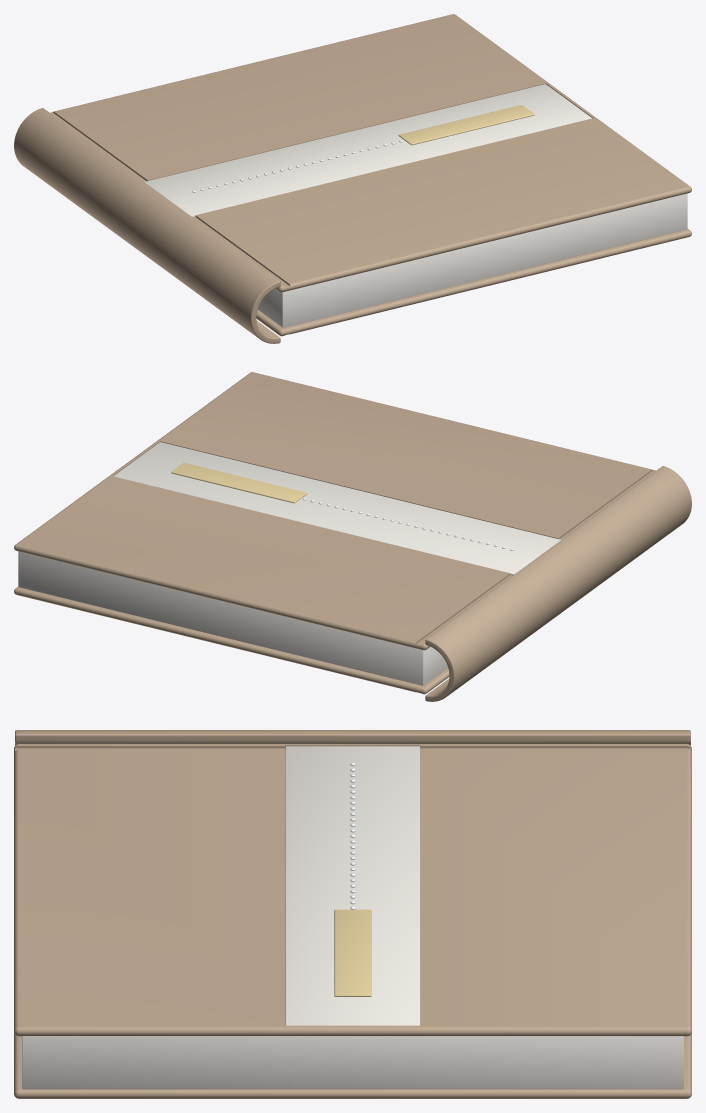
File: fascia--square.glb
The picture shows the model from 3 angles, top to bottom: view 1: azimuth 30°, elevation 25°; view 2: azimuth 150°, elevation 25°; view 3: azimuth 270°, elevation 25°; orthographic projection. The views are drawn at different scales.
Parts seen in each view (by area): view 1: CoverFront, Spine, Band, Pages, CoverBack, Plate; view 2: CoverFront, Spine, Band, Pages, CoverBack, Plate; view 3: CoverFront, Pages, Band, Spine, CoverBack, Plate.
Boxes of the visible parts, x1=… form: CoverFront: x1=50, y1=14, x2=691, y2=292; Spine: x1=14, y1=108, x2=280, y2=343; Band: x1=145, y1=84, x2=591, y2=217; Pages: x1=258, y1=193, x2=687, y2=327; CoverBack: x1=256, y1=229, x2=691, y2=336; Plate: x1=398, y1=105, x2=534, y2=145; CoverFront: x1=14, y1=372, x2=655, y2=650; Spine: x1=425, y1=466, x2=691, y2=701; Band: x1=113, y1=442, x2=560, y2=575; Pages: x1=18, y1=551, x2=447, y2=685; CoverBack: x1=14, y1=587, x2=449, y2=694; Plate: x1=171, y1=463, x2=307, y2=503; CoverFront: x1=14, y1=744, x2=691, y2=1036; Pages: x1=22, y1=1036, x2=683, y2=1089; Band: x1=285, y1=746, x2=420, y2=1025; Spine: x1=15, y1=730, x2=690, y2=745; CoverBack: x1=14, y1=1033, x2=691, y2=1098; Plate: x1=334, y1=909, x2=371, y2=996.
Bounding box in the file's own units: 0.3208 × 0.043 × 0.3.
